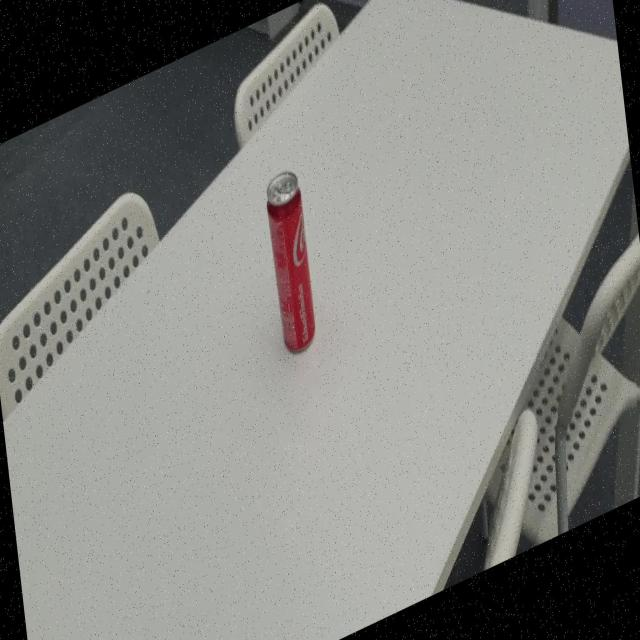coca-cola: (263, 158, 321, 368)
